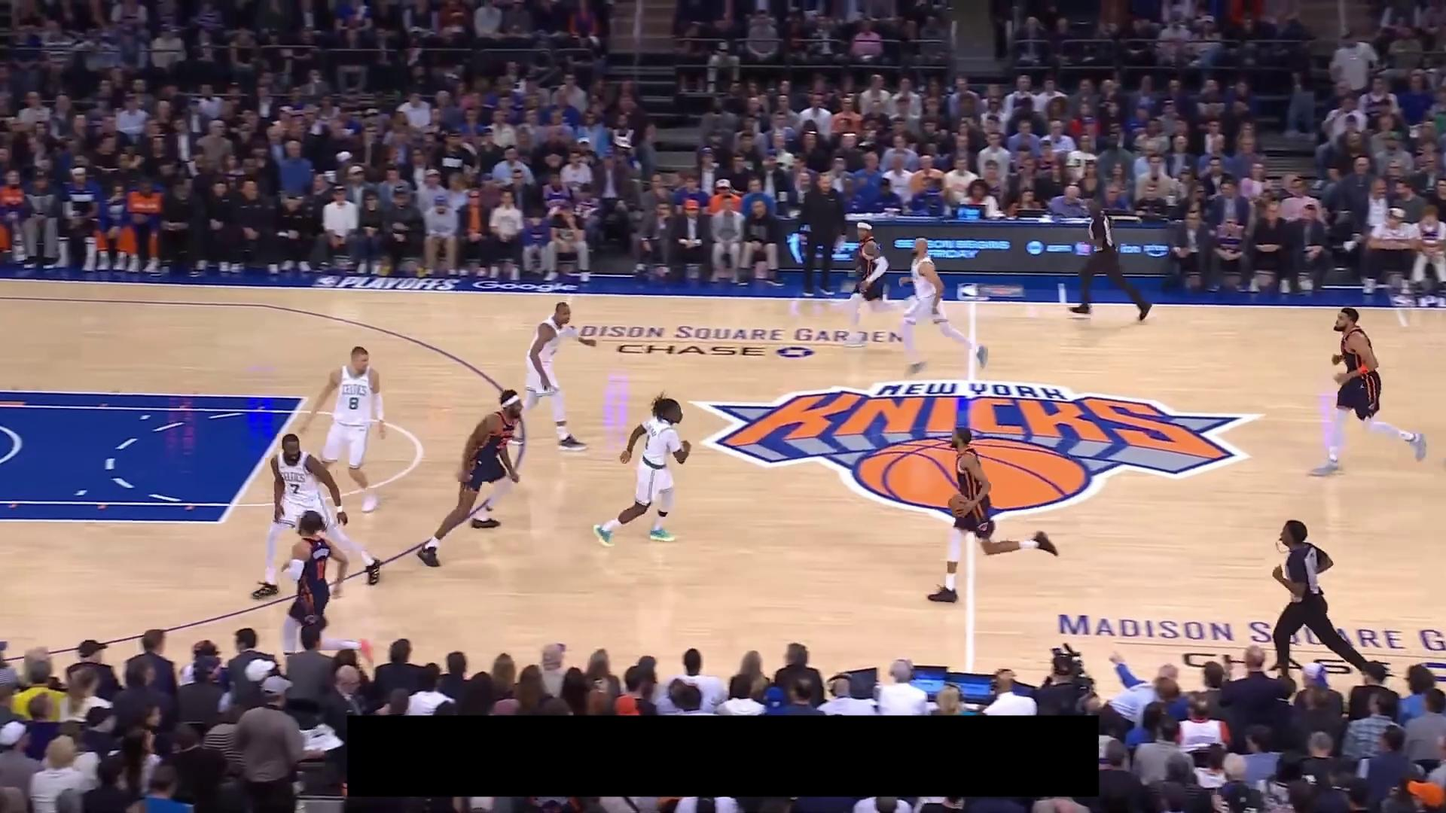ball: (948, 493, 967, 516)
number: (347, 395, 361, 411), (288, 481, 300, 495)
player: (249, 431, 384, 599), (1306, 306, 1428, 478), (416, 388, 526, 568), (275, 510, 374, 671), (297, 343, 388, 516), (592, 392, 692, 548), (897, 236, 990, 378), (515, 300, 598, 454), (841, 220, 912, 349)
player-in-possession: (925, 425, 1060, 603)
referee: (1269, 519, 1387, 683), (1069, 196, 1154, 322)
